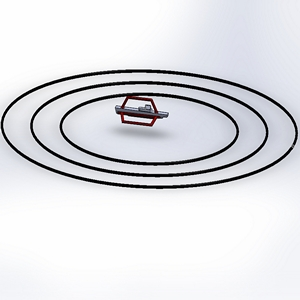circle: (1, 62, 299, 197)
submarine: (109, 90, 180, 136)
